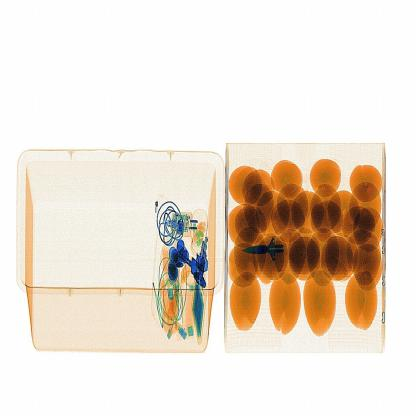gun: (232, 224, 300, 273)
